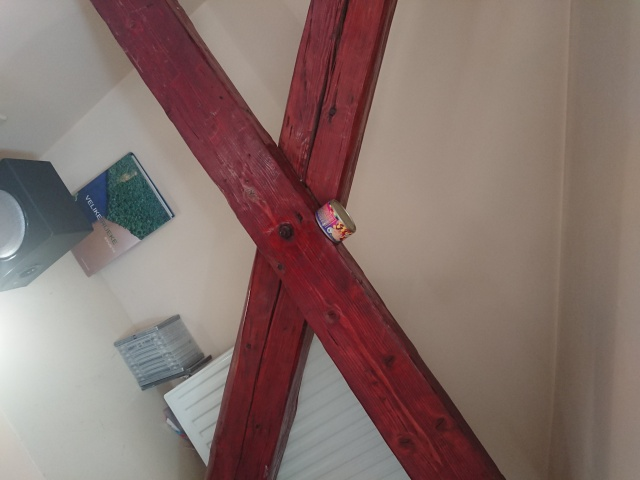Giana Tuna Salad Mexico 185g: (313, 196, 358, 247)
